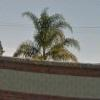Palm tree: (14, 4, 82, 63)
